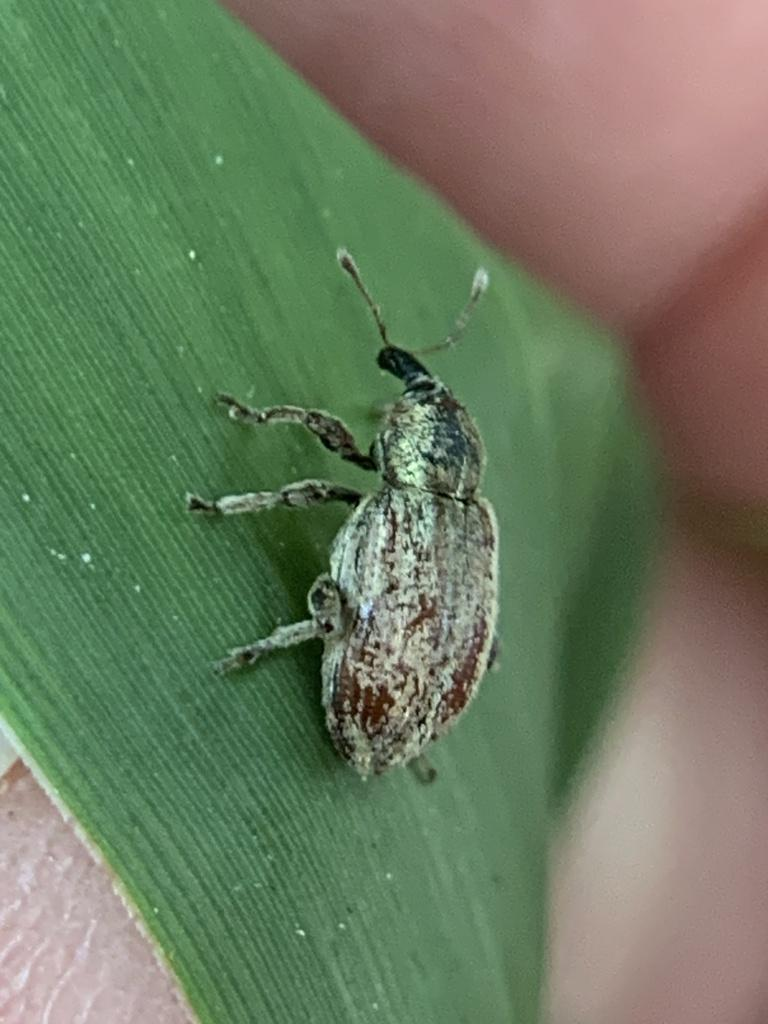weevils: (139, 176, 570, 847)
